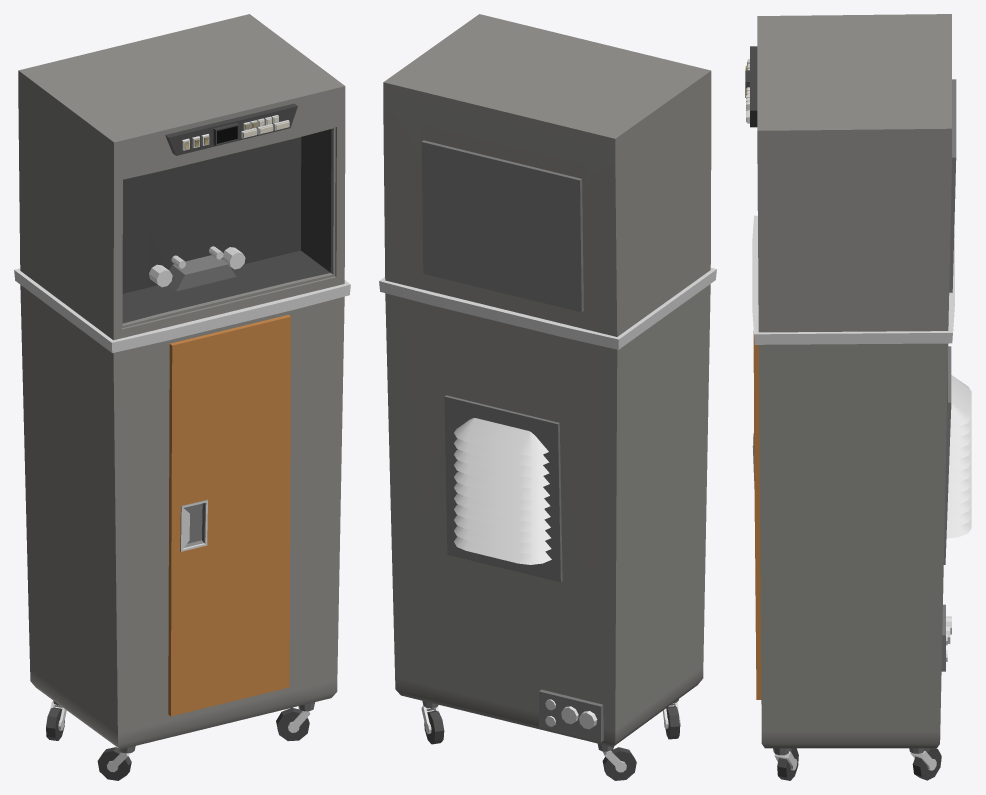
File: vending-machine-60s--1.gltf
The picture shows the model from 3 angles, left to right: view 1: azimuth 30°, elevation 25°; view 2: azimuth 150°, elevation 25°; view 3: azimuth 270°, elevation 25°; orthographic projection.
Parts seen in each view (by area): view 1: Cube.022; view 2: Cube.022; view 3: Cube.022.
Part boxes in pixels (box(x1,y1,x2,y2)): Cube.022: box(14, 14, 350, 780); Cube.022: box(379, 14, 716, 780); Cube.022: box(745, 14, 971, 780).
Size of the model in its own units: 0.6021 by 1.58 by 0.4854.
